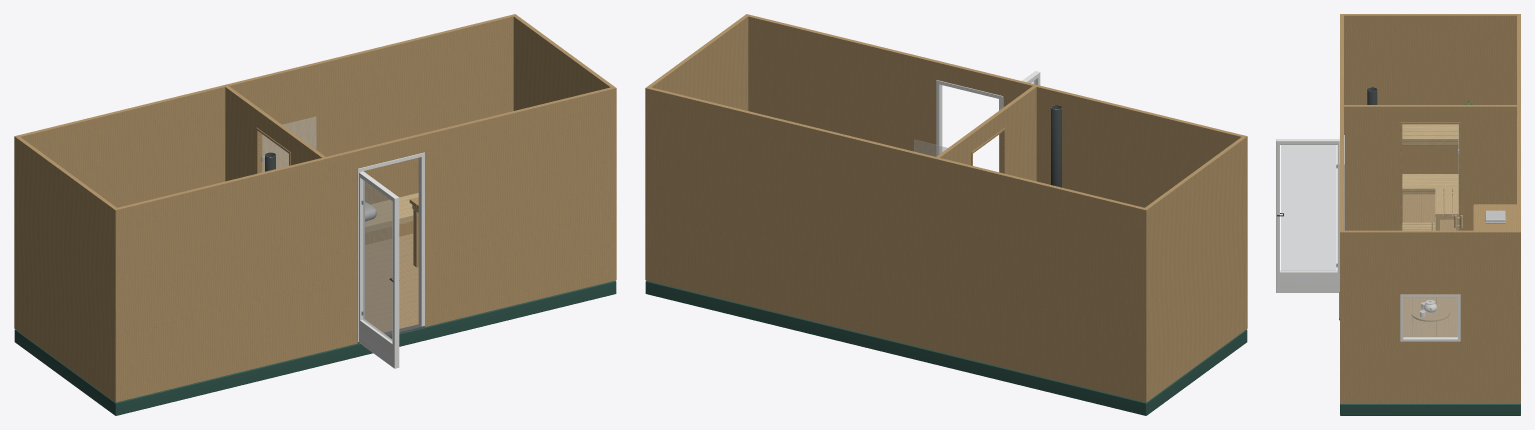
The picture shows the model from 3 angles, left to right: view 1: azimuth 30°, elevation 25°; view 2: azimuth 150°, elevation 25°; view 3: azimuth 270°, elevation 25°; orthographic projection. The views are drawn at different scales.
Parts seen in each view (by area): view 1: DP03-W01, DP03-W02, DP03-W03, Dimensioned foundation, Hinge_DP03-D02, DP03-W04, Floor lounge, DP03-W05, Door entry p3_i47, Hinge_DP03-D01, Л1 bench; view 2: DP03-W02, DP03-W01, DP03-W03, Dimensioned foundation, DP03-W04, DP03-W05, ASTON dimensioned stove and remote firebox, Door entry p3_i47; view 3: DP03-W04, DP03-W03, DP03-W05, Hinge_DP03-D02, Window p3_i114, С1 table, Dimensioned foundation, DP03-W01, DP03-W02, Floor steam, ВП2 upper, НС2 lower (+7 smaller).
Part boxes in pixels (<box>): DP03-W01: <box>113,86,616,402</box>; DP03-W02: <box>14,14,516,329</box>; DP03-W03: <box>16,137,116,400</box>; Dimensioned foundation: <box>14,280,616,415</box>; Hinge_DP03-D02: <box>359,171,399,368</box>; DP03-W04: <box>513,15,613,110</box>; Floor lounge: <box>365,233,418,332</box>; DP03-W05: <box>225,86,325,181</box>; Door entry p3_i47: <box>357,152,424,343</box>; Hinge_DP03-D01: <box>262,117,316,171</box>; Л1 bench: <box>365,193,418,229</box>; DP03-W02: <box>645,86,1148,402</box>; DP03-W01: <box>745,14,1247,329</box>; DP03-W03: <box>1145,137,1245,400</box>; Dimensioned foundation: <box>645,280,1247,415</box>; DP03-W04: <box>648,15,748,110</box>; DP03-W05: <box>936,86,1036,181</box>; ASTON dimensioned stove and remote firebox: <box>1051,105,1061,187</box>; Door entry p3_i47: <box>936,80,1003,156</box>; DP03-W04: <box>1344,230,1516,403</box>; DP03-W03: <box>1344,14,1516,173</box>; DP03-W05: <box>1344,105,1516,230</box>; Hinge_DP03-D02: <box>1276,139,1339,292</box>; Window p3_i114: <box>1400,294,1460,341</box>; С1 table: <box>1403,297,1457,336</box>; Dimensioned foundation: <box>1340,404,1520,415</box>; DP03-W01: <box>1340,14,1343,403</box>; DP03-W02: <box>1517,14,1520,403</box>; Floor steam: <box>1402,194,1456,230</box>; ВП2 upper: <box>1402,124,1458,141</box>; НС2 lower: <box>1402,174,1458,191</box>.
Size of the model in its own units: 6.01 by 2.36 by 2.84.
32 materials, 13 textured.
